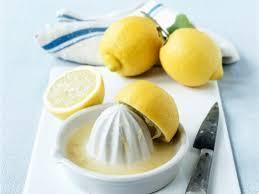lemon: (116, 80, 178, 142), (100, 15, 162, 76), (160, 28, 223, 87), (42, 66, 104, 120)
